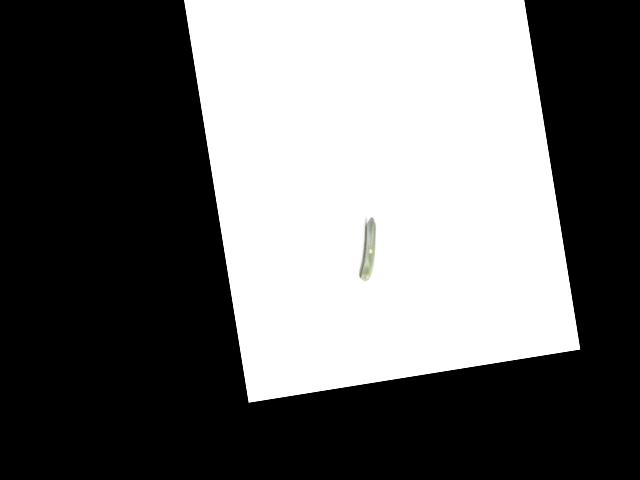cucumber: (351, 217, 384, 282)
